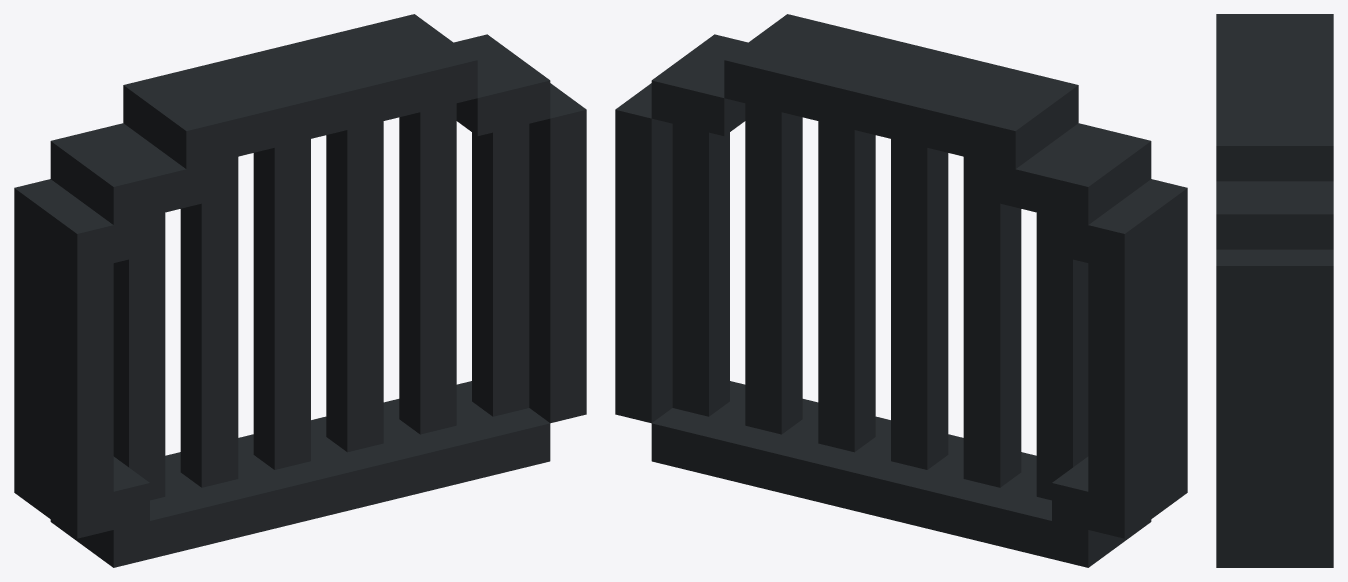
Rendered from boiler_door.glb.
3 views of the same model, side by side, from view 1: azimuth 30°, elevation 25°; view 2: azimuth 150°, elevation 25°; view 3: azimuth 270°, elevation 25° (orthographic). The views are drawn at different scales.
Visible parts, largest first — view 1: generated(Clone); view 2: generated(Clone); view 3: generated(Clone).
Part boxes in pixels (bbox=[...]): generated(Clone): bbox=[14, 14, 586, 567]; generated(Clone): bbox=[615, 14, 1187, 567]; generated(Clone): bbox=[1216, 14, 1333, 567].
Bounding box in the file's own units: 14 × 11 × 3.
1 material, 1 textured.
